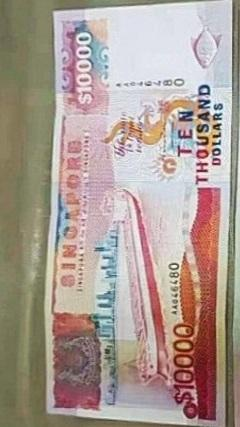10000SingaporeDollar: (54, 13, 226, 411)
